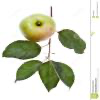Apple leaf: (50, 60, 80, 92), (57, 29, 87, 57), (1, 39, 43, 59), (41, 59, 62, 95), (13, 60, 43, 83)
